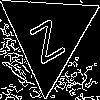Z: (23, 10, 66, 65)
